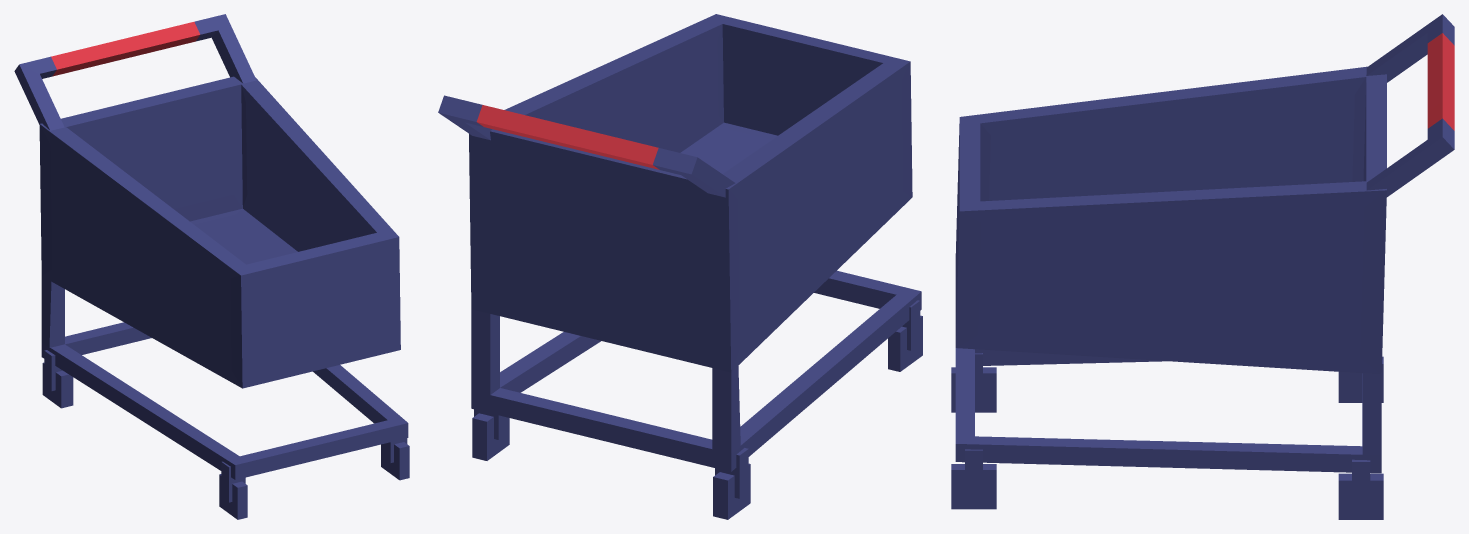
File: cart.gltf
The picture shows the model from 3 angles, left to right: view 1: azimuth 30°, elevation 25°; view 2: azimuth 150°, elevation 25°; view 3: azimuth 270°, elevation 25°; orthographic projection. The views are drawn at different scales.
Parts seen in each view (by area): view 1: SI_Prop_ShoppingTrolley_01.001; view 2: SI_Prop_ShoppingTrolley_01.001; view 3: SI_Prop_ShoppingTrolley_01.001.
Part boxes in pixels (box(x1,y1,x2,y2)): SI_Prop_ShoppingTrolley_01.001: box(14, 14, 409, 519); SI_Prop_ShoppingTrolley_01.001: box(438, 14, 922, 519); SI_Prop_ShoppingTrolley_01.001: box(951, 14, 1454, 519).
Size of the model in its own units: 1.09 by 1.5 by 1.79.
1 material, 1 textured.
